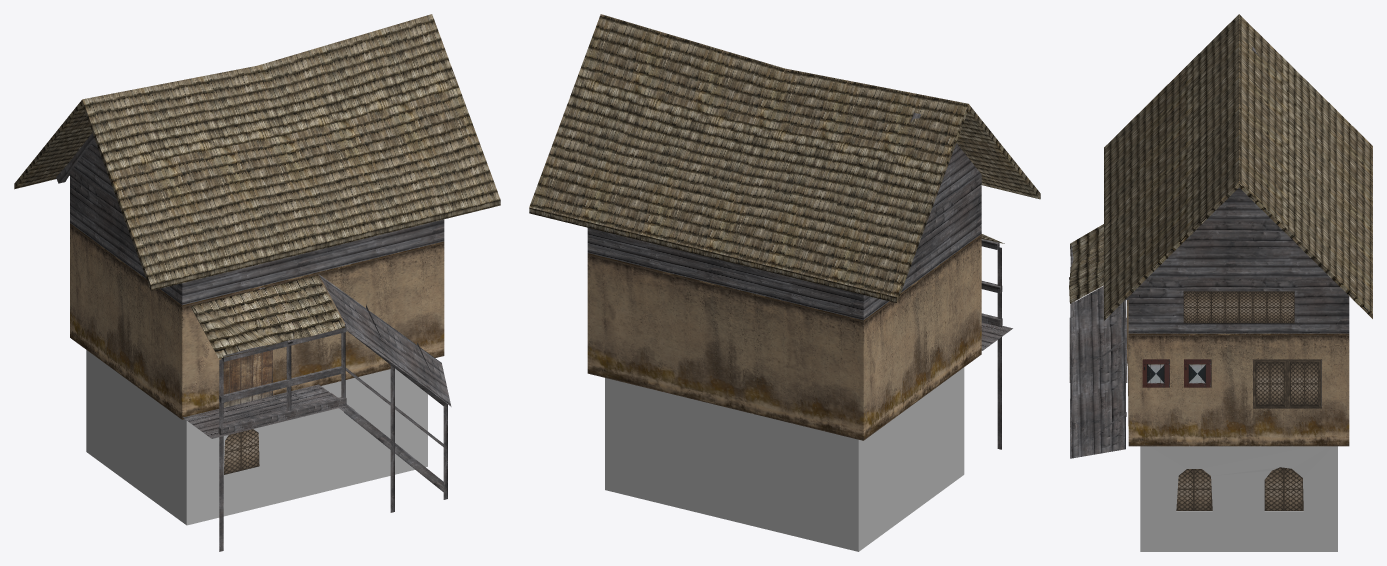
The model's file is v3_house1_LOD2.dae.
The picture shows the model from 3 angles, left to right: view 1: azimuth 30°, elevation 25°; view 2: azimuth 150°, elevation 25°; view 3: azimuth 270°, elevation 25°; orthographic projection. The views are drawn at different scales.
Visible parts, largest first — view 1: DefaultLib2.roof_01, s1, conj_dirt_01, woodPlanks, doorwindow_set; view 2: DefaultLib2.roof_01, conj_dirt_01, s1, woodPlanks; view 3: DefaultLib2.roof_01, woodPlanks, conj_dirt_01, s1, doorwindow_set.
Part boxes in pixels (<box>): DefaultLib2.roof_01: <box>14,14,500,358</box>; s1: <box>86,350,427,525</box>; conj_dirt_01: <box>70,223,444,419</box>; woodPlanks: <box>56,133,451,551</box>; doorwindow_set: <box>223,350,272,474</box>; DefaultLib2.roof_01: <box>529,14,1040,302</box>; conj_dirt_01: <box>587,234,981,440</box>; s1: <box>605,367,964,551</box>; woodPlanks: <box>587,112,1012,449</box>; DefaultLib2.roof_01: <box>1069,14,1372,320</box>; woodPlanks: <box>1069,47,1349,458</box>; conj_dirt_01: <box>1127,300,1349,446</box>; s1: <box>1140,446,1337,551</box>; doorwindow_set: <box>1142,291,1321,510</box>.
Size of the model in its own units: 8.92 by 9.91 by 6.82.
